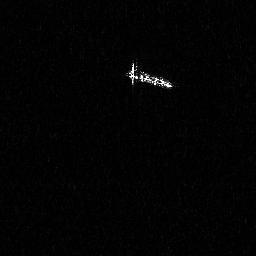ship: (124, 59, 176, 92)
